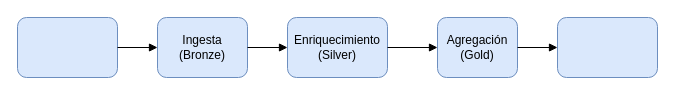
This 675x95 diagram has some shape labels left out. The centre of each missing label's shape, as x and y in pixels:
"Captura (APIs externas)" goes at (67,47).
"Visualización (Dash)" goes at (607,47).
